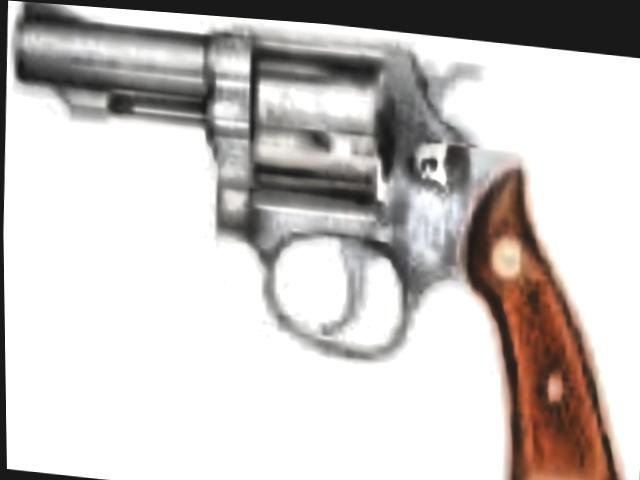pistol: (0, 0, 629, 480)
